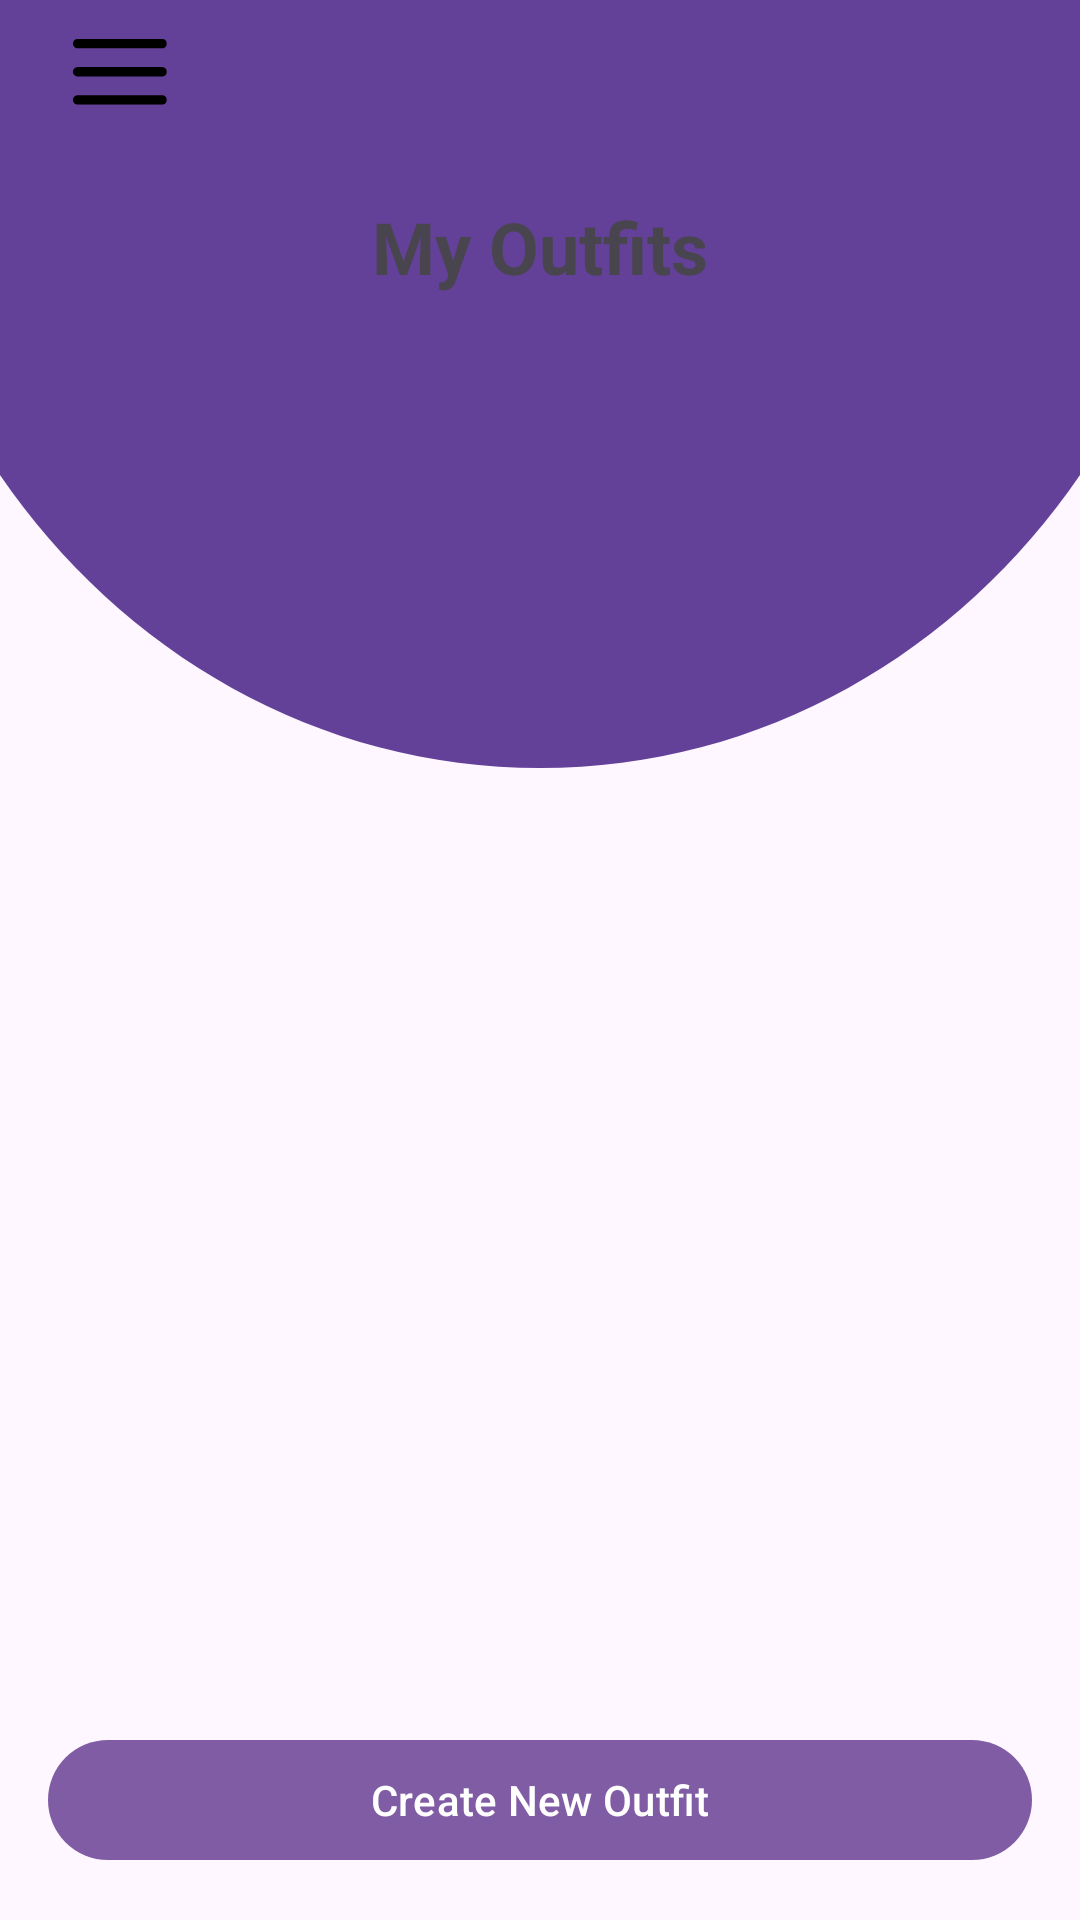

Icon click points for this 1080x1920 phone screenshot, format (x,y):
menu: (120,72)
